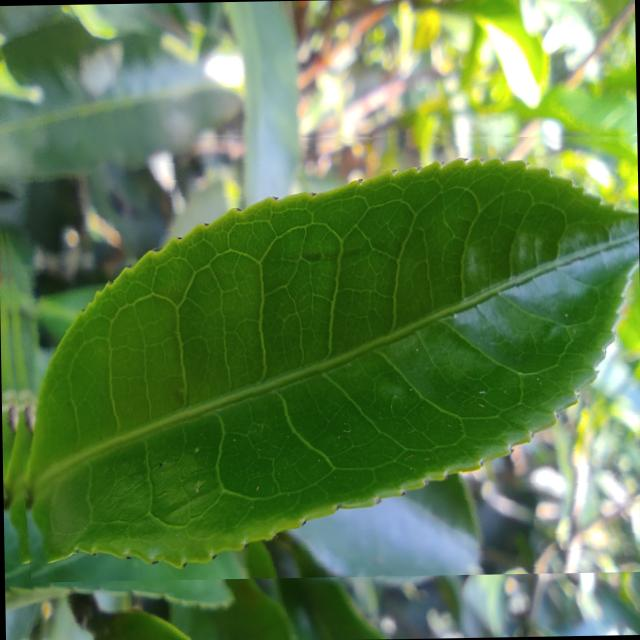Category C 4-7 days: (0, 126, 640, 582)
